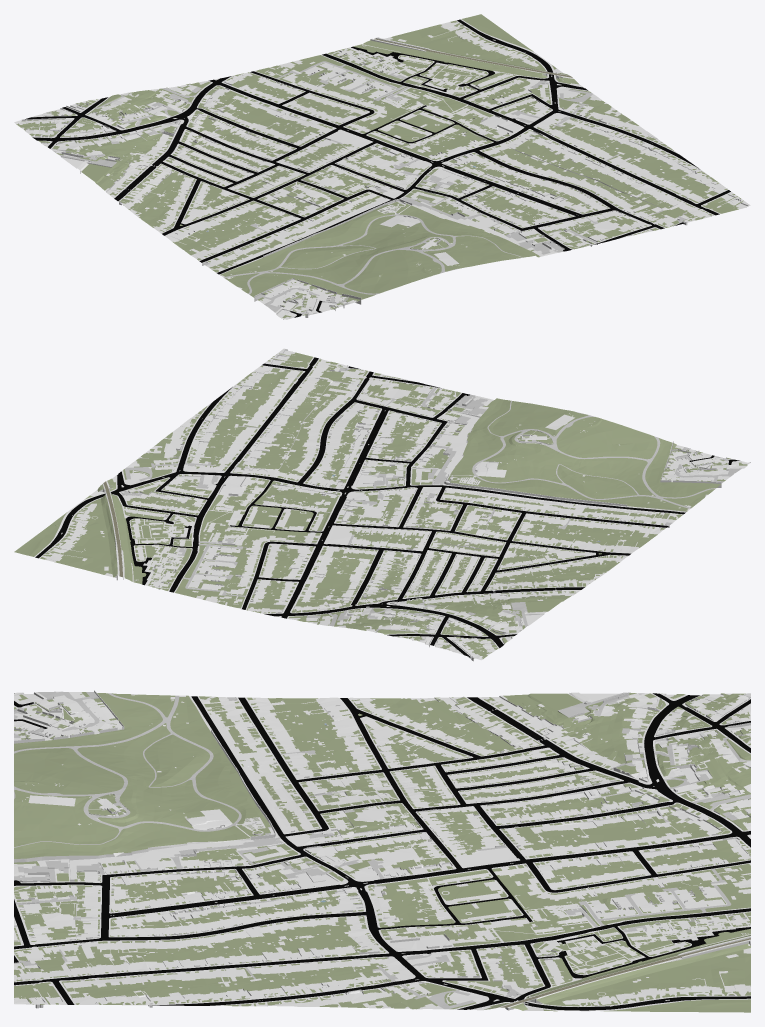
File: TQ3272_Terrain_LOD_1_draco.glb
The picture shows the model from 3 angles, top to bottom: view 1: azimuth 30°, elevation 25°; view 2: azimuth 150°, elevation 25°; view 3: azimuth 270°, elevation 25°; orthographic projection. The views are drawn at different scales.
Visible parts, largest first — view 1: TQ3272_Terrain; view 2: TQ3272_Terrain; view 3: TQ3272_Terrain.
Boxes of the visible parts, <box> form: TQ3272_Terrain: <box>14,14,750,319</box>; TQ3272_Terrain: <box>14,348,750,661</box>; TQ3272_Terrain: <box>14,690,750,1012</box>.
Bounding box in the file's own units: 1000 × 36.81 × 1000.
Materials: 1 (1 with a texture image).
